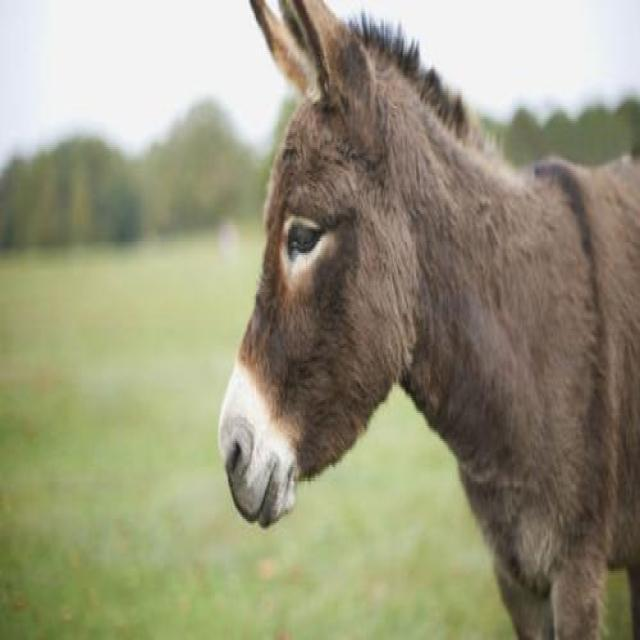Donkey: (216, 0, 639, 640)
